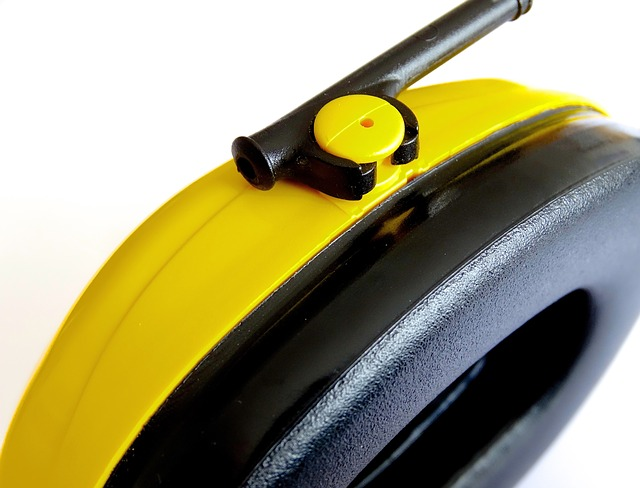headphones: (1, 81, 640, 488)
